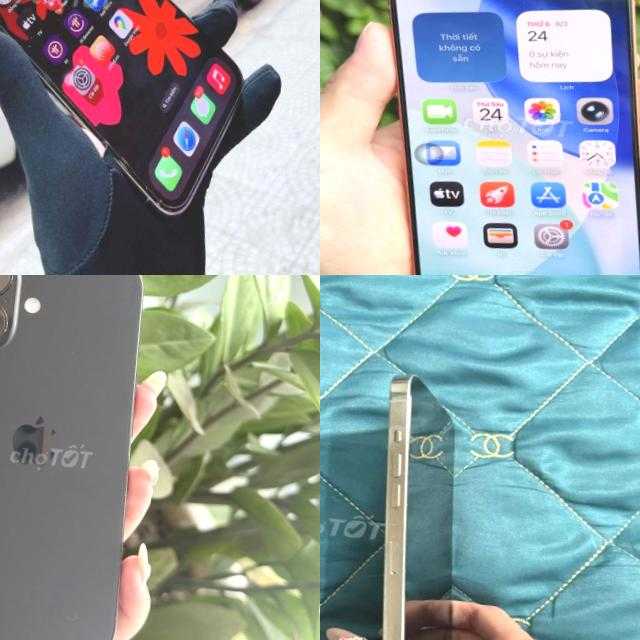scratch: (0, 299, 13, 351)
